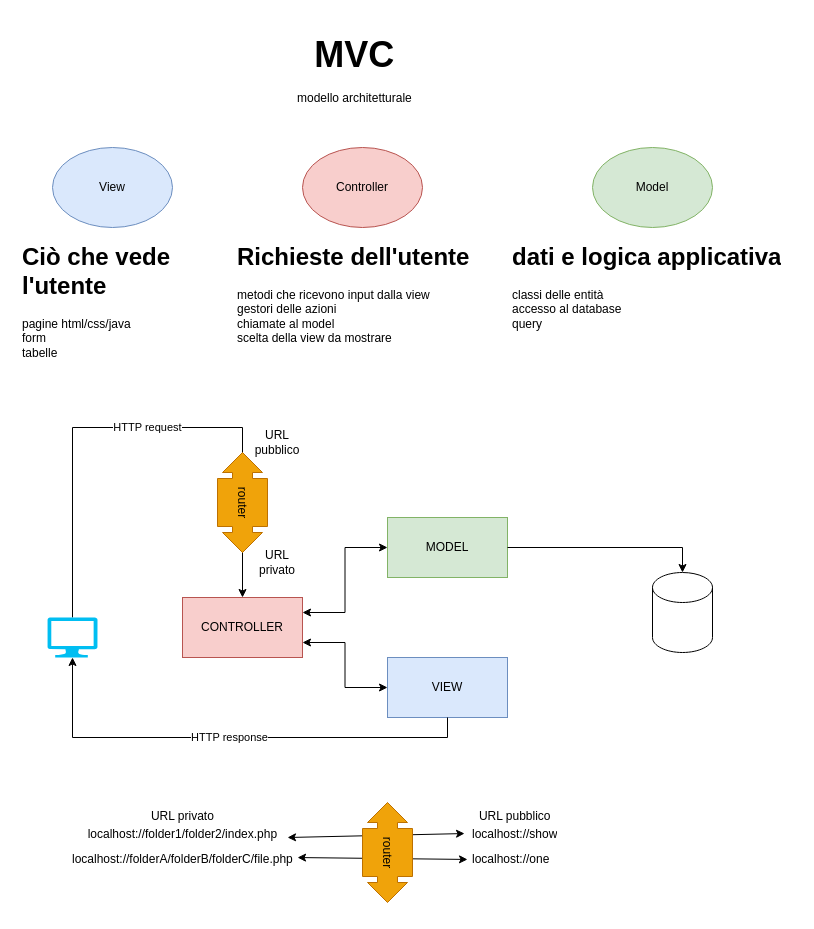
Image size: 814x929. Some labels were removed from this diagram. The shapes that lost their labels are listed below. From the top down, each one's centre as x and y in pixels, then its label:
the point at 682,612: DATABASE
the point at 72,637: BROWSER
